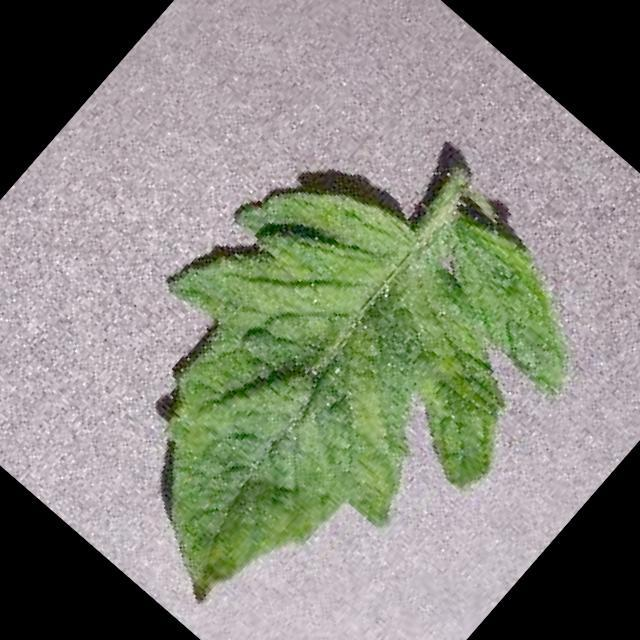Tomato mosaic virus leaf: (12, 80, 615, 640)
